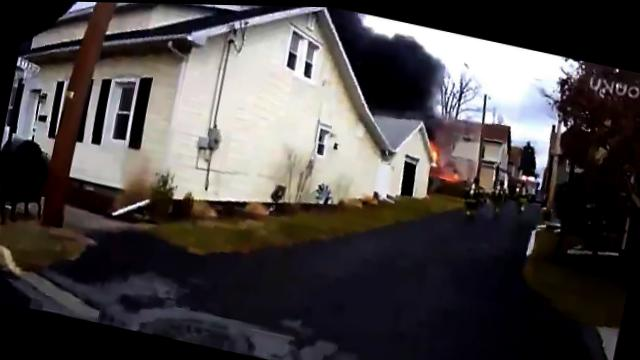fire: (431, 140, 443, 164)
